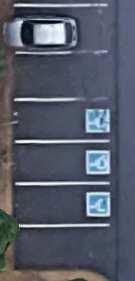Occupied: (13, 4, 107, 53)
Vacant: (13, 53, 107, 99), (16, 226, 110, 271), (14, 99, 110, 142), (15, 142, 110, 184), (15, 184, 111, 225)
